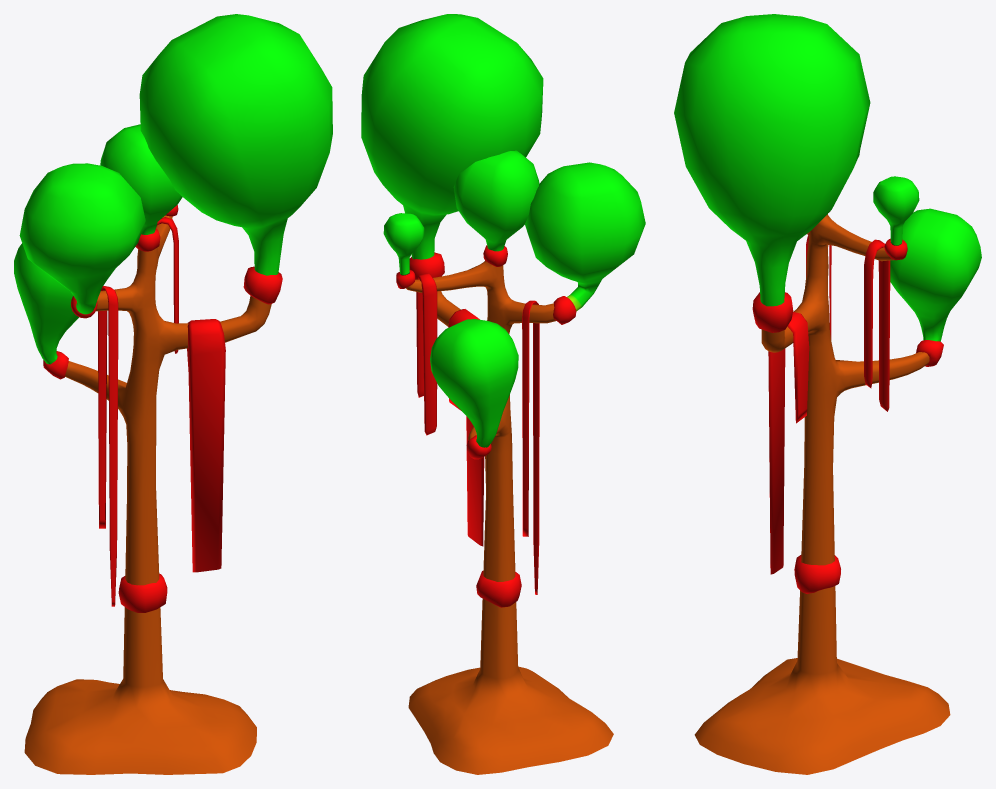
Rendered from BubbleTree_03.fbx.
3 views of the same model, side by side, from view 1: azimuth 30°, elevation 25°; view 2: azimuth 150°, elevation 25°; view 3: azimuth 270°, elevation 25° (orthographic). The views are drawn at different scales.
Visible parts, largest first — view 1: BubbleTree_03_LOD0; view 2: BubbleTree_03_LOD0; view 3: BubbleTree_03_LOD0.
Boxes of the visible parts, bbox=[...] form: BubbleTree_03_LOD0: bbox=[14, 14, 332, 774]; BubbleTree_03_LOD0: bbox=[361, 14, 645, 774]; BubbleTree_03_LOD0: bbox=[674, 14, 981, 774].
Size of what is drawn, in the model's own units: 591 by 1385 by 522.
